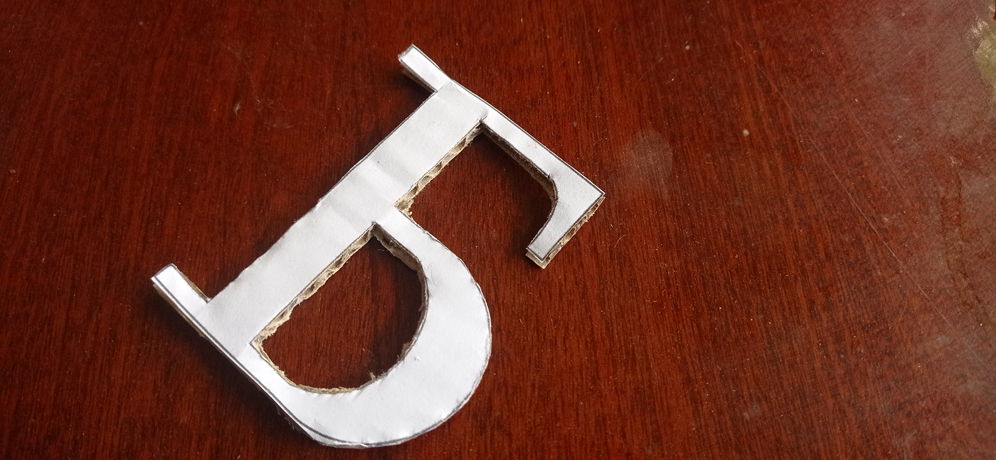b: (150, 43, 606, 450)
